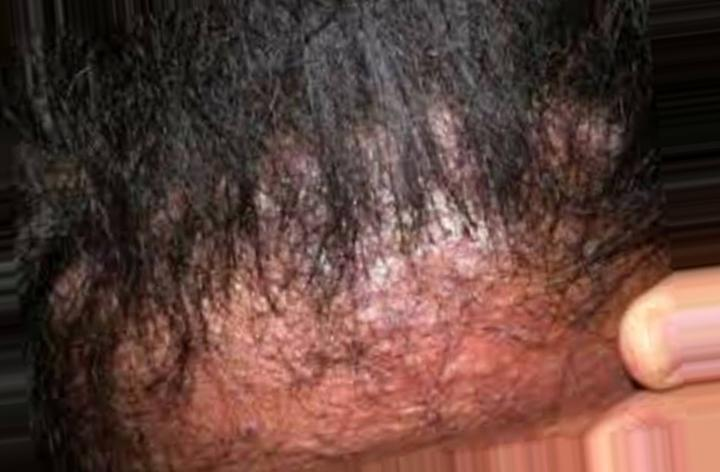Folliculitis: (391, 210, 541, 333)
